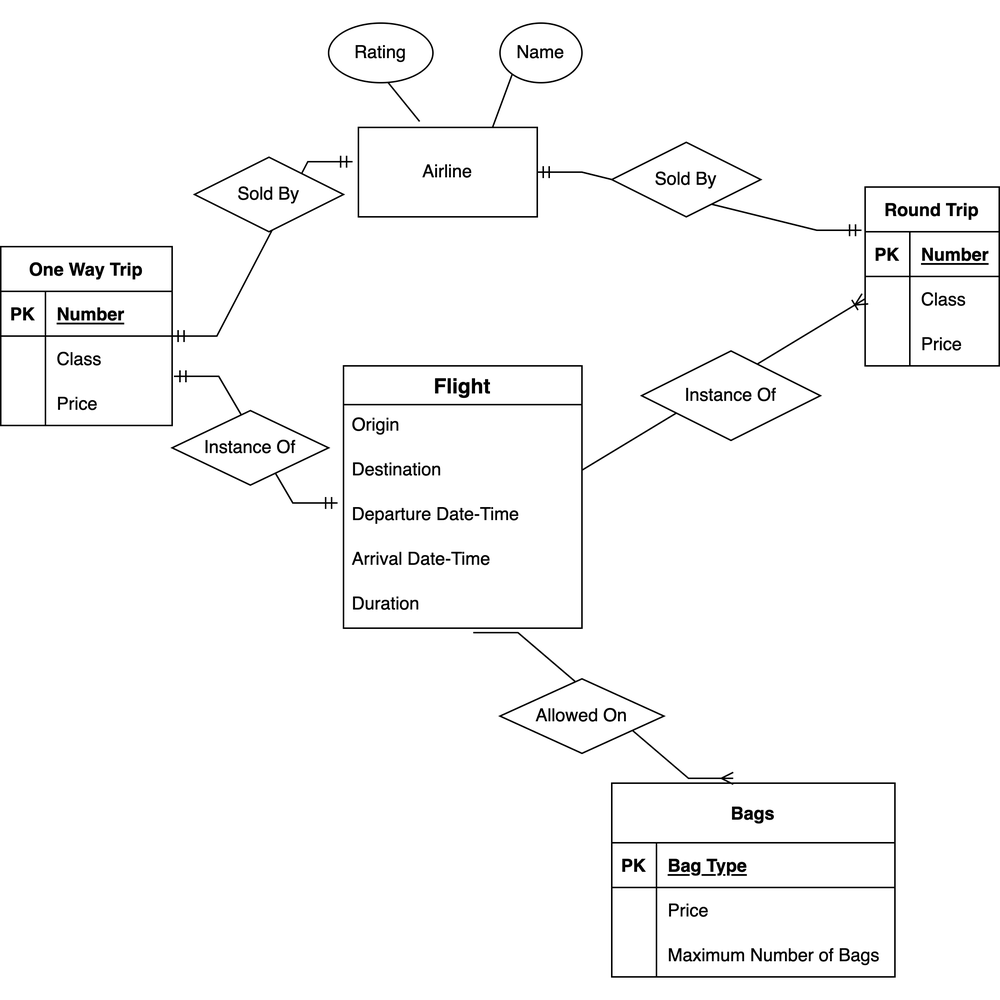attribute: (320, 20, 441, 86), (499, 24, 588, 80)
entity: (338, 359, 590, 634), (608, 774, 904, 985), (1, 236, 180, 435), (861, 179, 1000, 371), (351, 120, 537, 223)
relationship: (641, 342, 809, 449), (496, 671, 669, 764), (614, 133, 761, 226), (169, 414, 329, 486), (195, 156, 343, 230)
